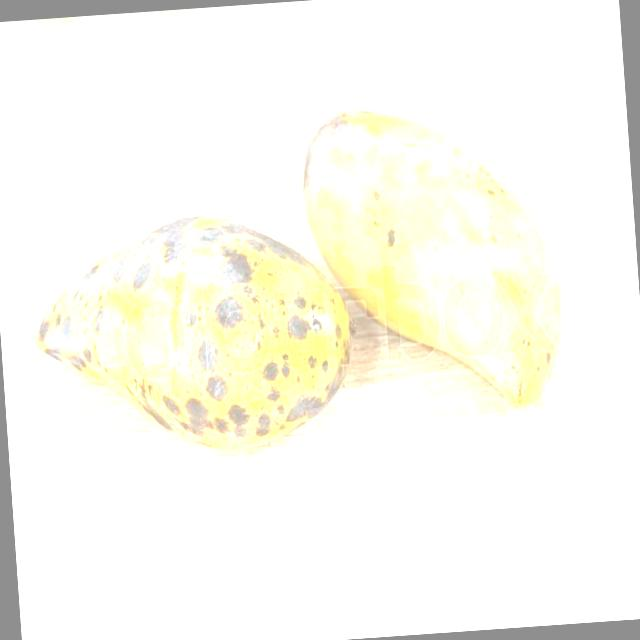Mango: (296, 93, 568, 421), (26, 202, 360, 463)
